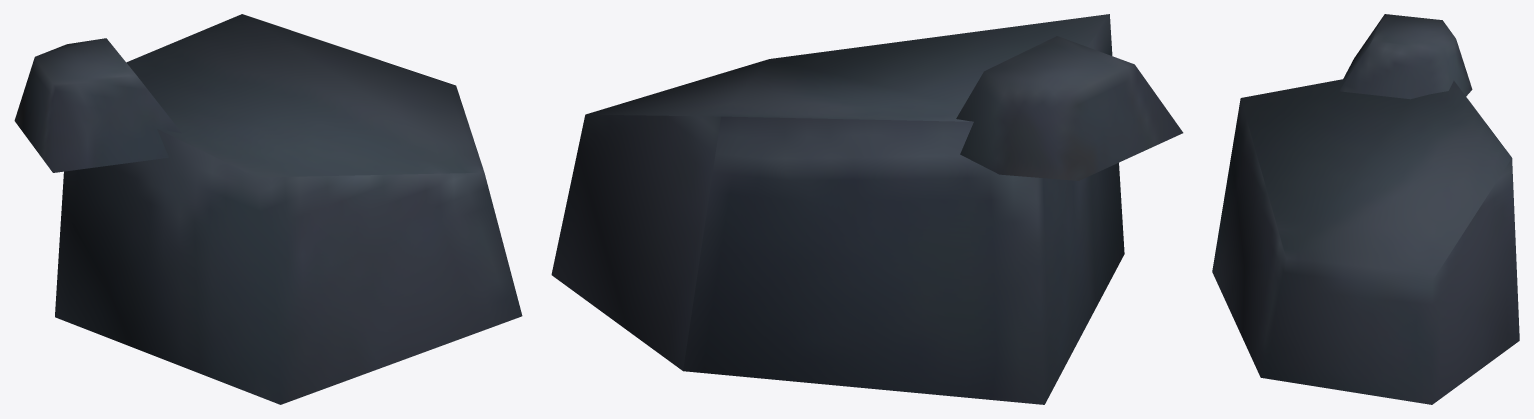
The model's file is Area_05_22.FBX.
3 renders of one model, left to right at view 1: azimuth 30°, elevation 25°; view 2: azimuth 150°, elevation 25°; view 3: azimuth 270°, elevation 25°, orthographic. The views are drawn at different scales.
Visible parts, largest first — view 1: Area_05_22; view 2: Area_05_22; view 3: Area_05_22.
Boxes of the visible parts, x1,y1,x2,y2 form: Area_05_22: [14, 14, 522, 404]; Area_05_22: [551, 14, 1183, 404]; Area_05_22: [1212, 14, 1519, 404].
Bounding box in the file's own units: 1937 × 1027 × 1348.
